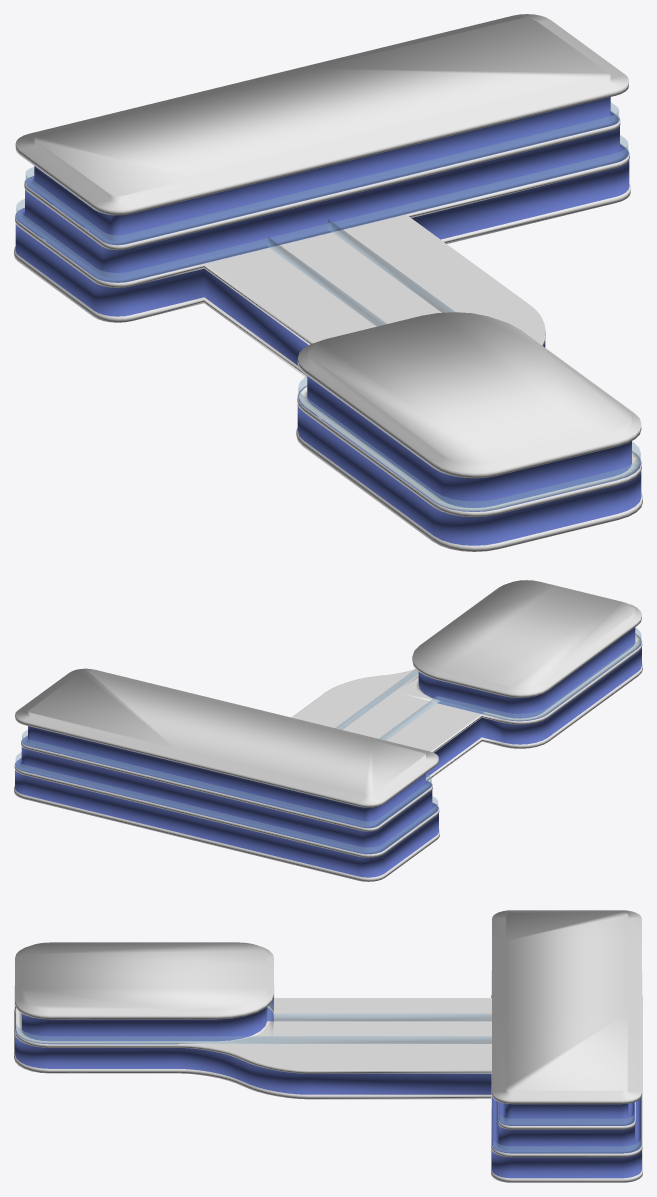
Rendered from ak-bars-test.glb.
3 renders of one model, top to bottom at view 1: azimuth 30°, elevation 25°; view 2: azimuth 150°, elevation 25°; view 3: azimuth 270°, elevation 25°, orthographic. The views are drawn at different scales.
Visible parts, largest first — view 1: Cube; view 2: Cube; view 3: Cube.
Part boxes in pixels (box(x1,y1,x2,y2)): Cube: box(14, 14, 642, 551); Cube: box(14, 580, 642, 881); Cube: box(14, 910, 642, 1182).
Bounding box in the file's own units: 66.33 × 13.9 × 92.33.
